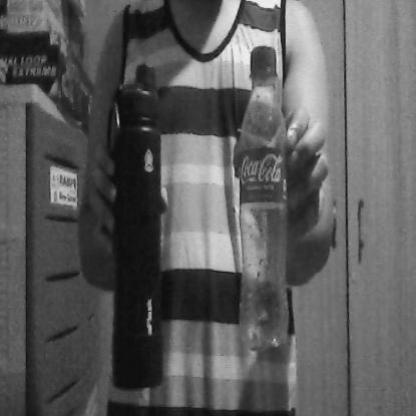Plastic Bottle: (232, 35, 298, 370)
